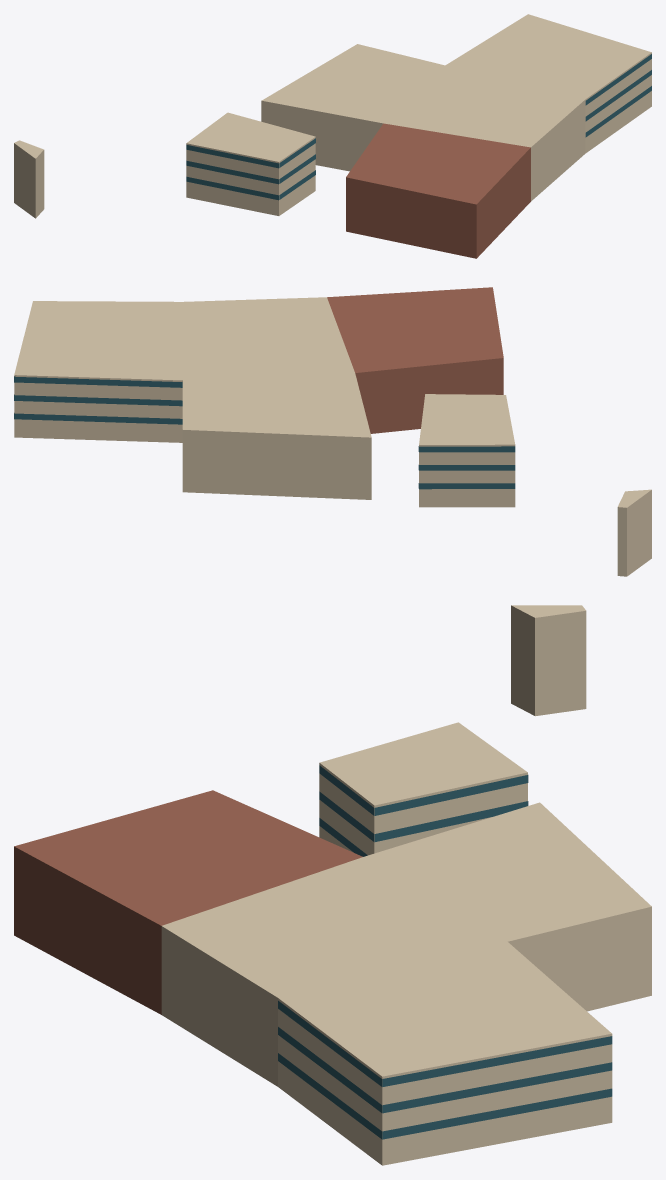
Rendered from city_-4_-7.glb.
3 renders of one model, top to bottom at view 1: azimuth 30°, elevation 25°; view 2: azimuth 150°, elevation 25°; view 3: azimuth 270°, elevation 25°, orthographic. The views are drawn at different scales.
Visible parts, largest first — view 1: city_-4_-7; view 2: city_-4_-7; view 3: city_-4_-7.
Part boxes in pixels (left/top/right/bottom): city_-4_-7: left=14, top=14, right=651, bottom=258; city_-4_-7: left=14, top=287, right=651, bottom=576; city_-4_-7: left=14, top=605, right=651, bottom=1165.
Bounding box in the file's own units: 151 × 15 × 88.24.
